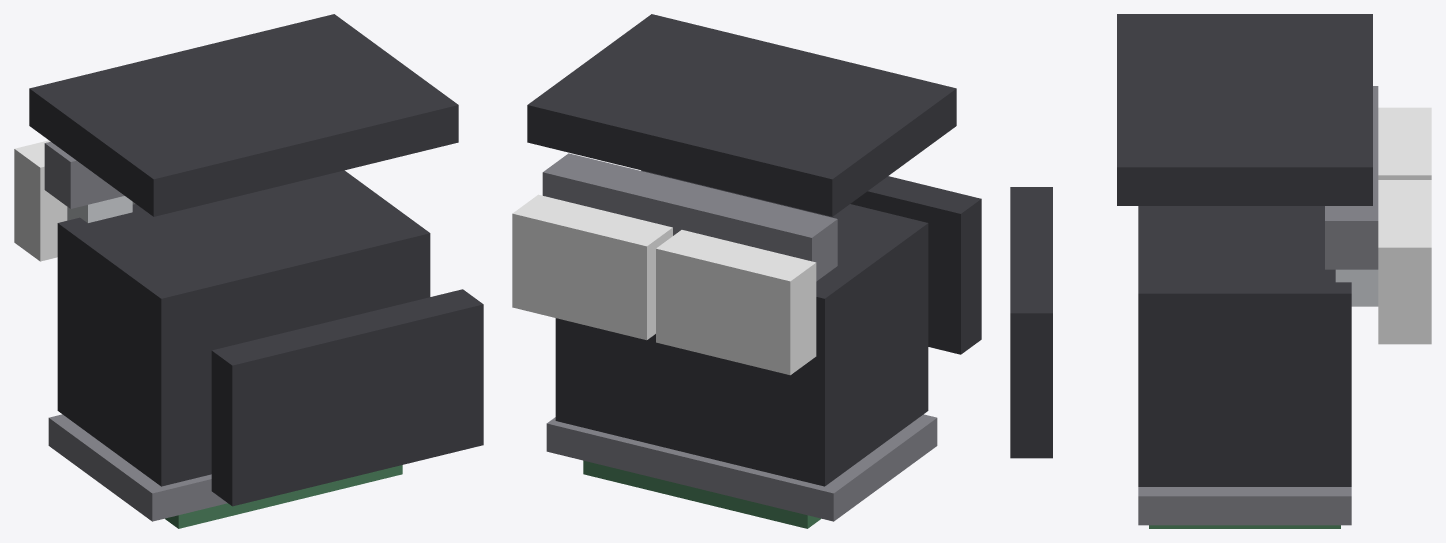
The model's file is controller_port.gltf.
3 renders of one model, left to right at view 1: azimuth 30°, elevation 25°; view 2: azimuth 150°, elevation 25°; view 3: azimuth 270°, elevation 25°, orthographic. The views are drawn at different scales.
Visible parts, largest first — view 1: controller_port; view 2: controller_port; view 3: controller_port.
Part boxes in pixels (bbox=[...]): controller_port: bbox=[14, 14, 483, 528]; controller_port: bbox=[512, 14, 981, 528]; controller_port: bbox=[1010, 14, 1431, 528].
Size of the model in its own units: 0.034 by 0.0395 by 0.0395.
